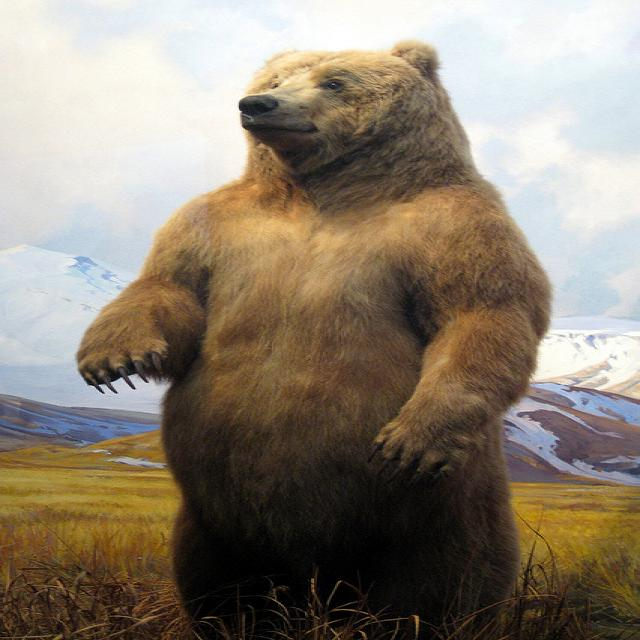Bear: (72, 32, 565, 640)
